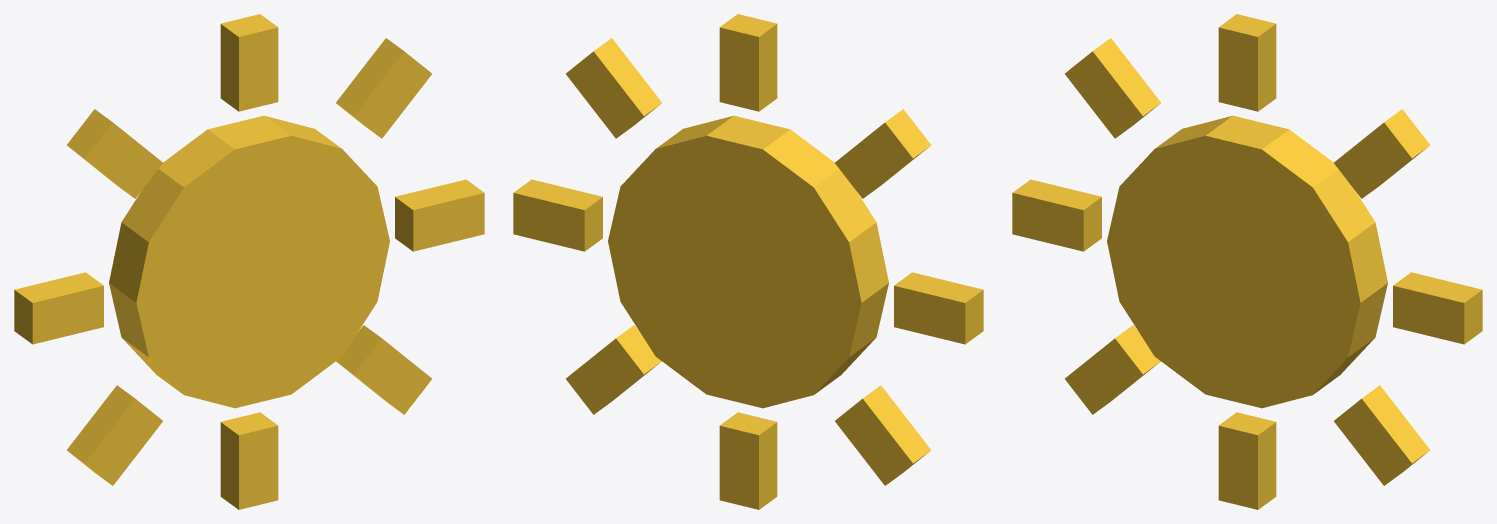
Rendered from sun_icon.obj.
3 views of the same model, side by side, from view 1: azimuth 30°, elevation 25°; view 2: azimuth 150°, elevation 25°; view 3: azimuth 330°, elevation 25° (orthographic).
Visible parts, largest first — view 1: item; view 2: item; view 3: item.
Boxes of the visible parts, x1=… form: item: x1=14, y1=14, x2=484, y2=509; item: x1=513, y1=14, x2=983, y2=509; item: x1=1012, y1=14, x2=1482, y2=509.
Size of the model in its own units: 0.57 by 0.57 by 0.06.
